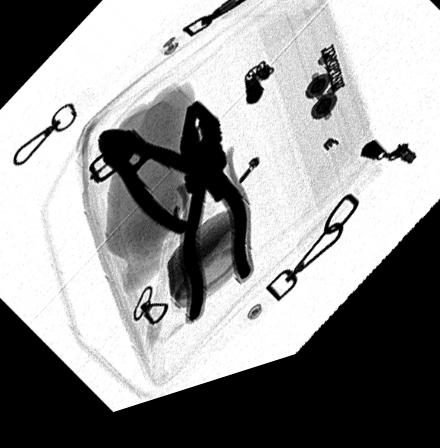Pliers: (175, 110, 252, 337), (94, 132, 233, 248)
